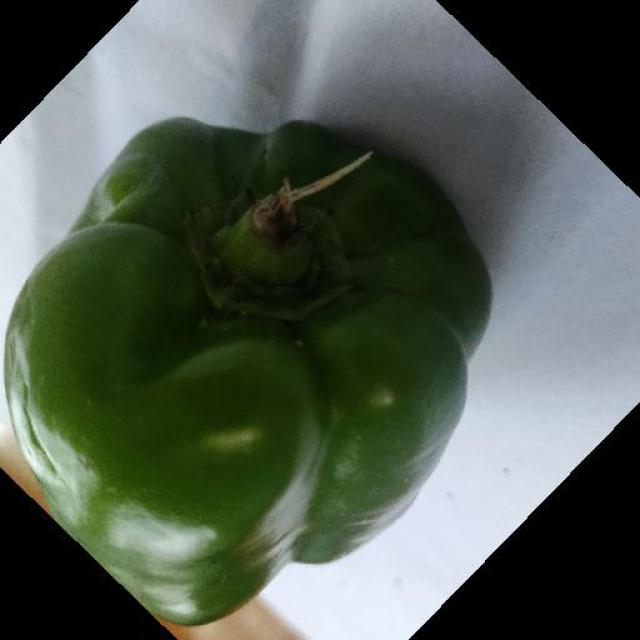Fresh_Capsicum: (31, 105, 458, 632)
